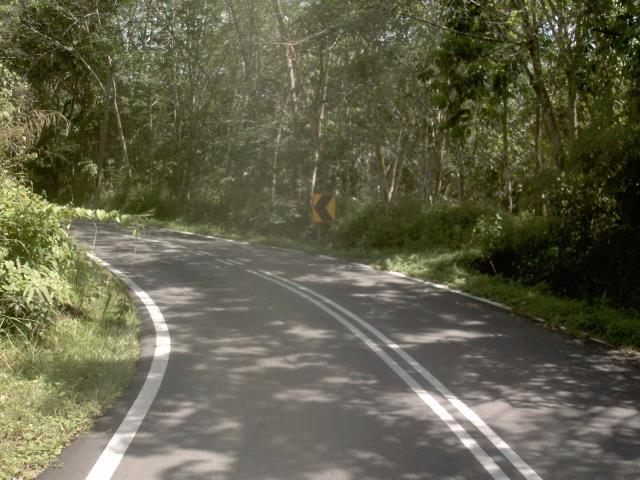traffic_sign: (307, 180, 344, 233)
